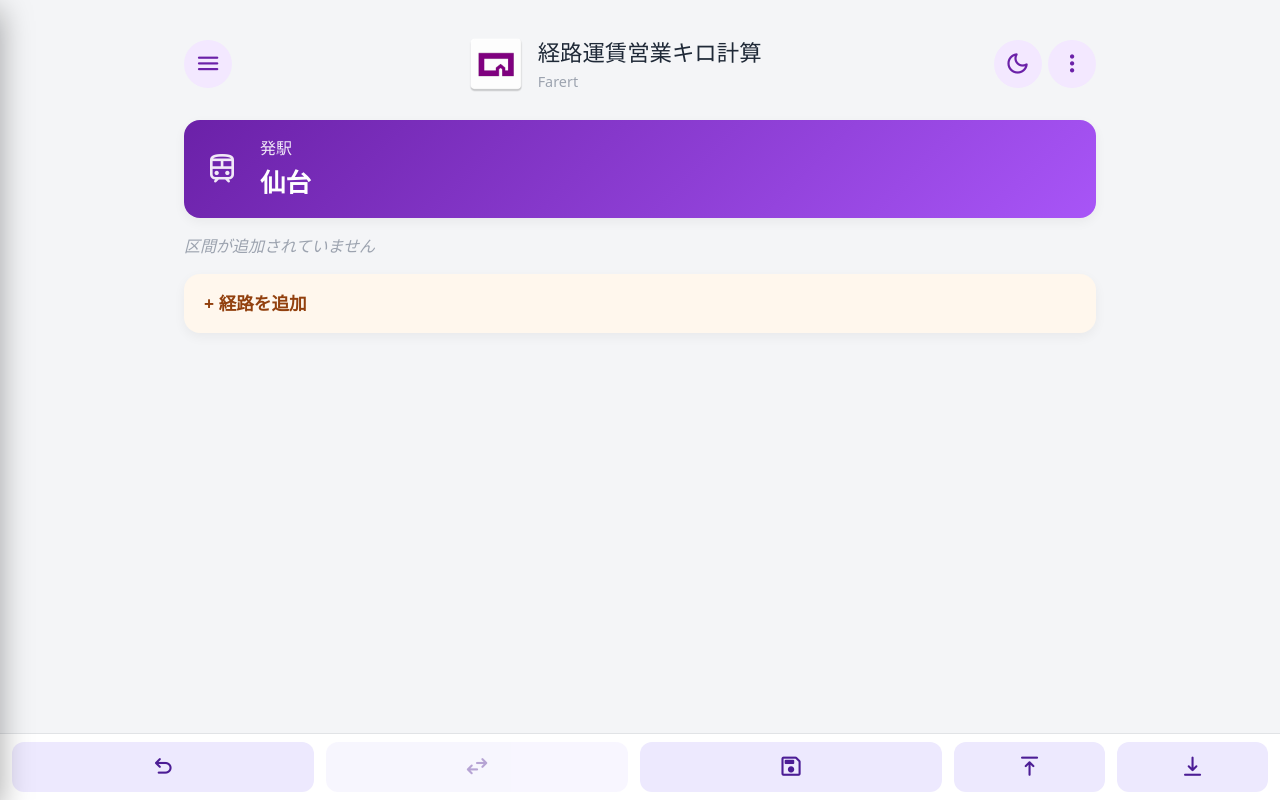
Test case: /+page.svelte › clears the start station when pressing the bottom back button without segments
Click the button named "戻る" at [163, 767], box left=12, top=742, right=314, bottom=792
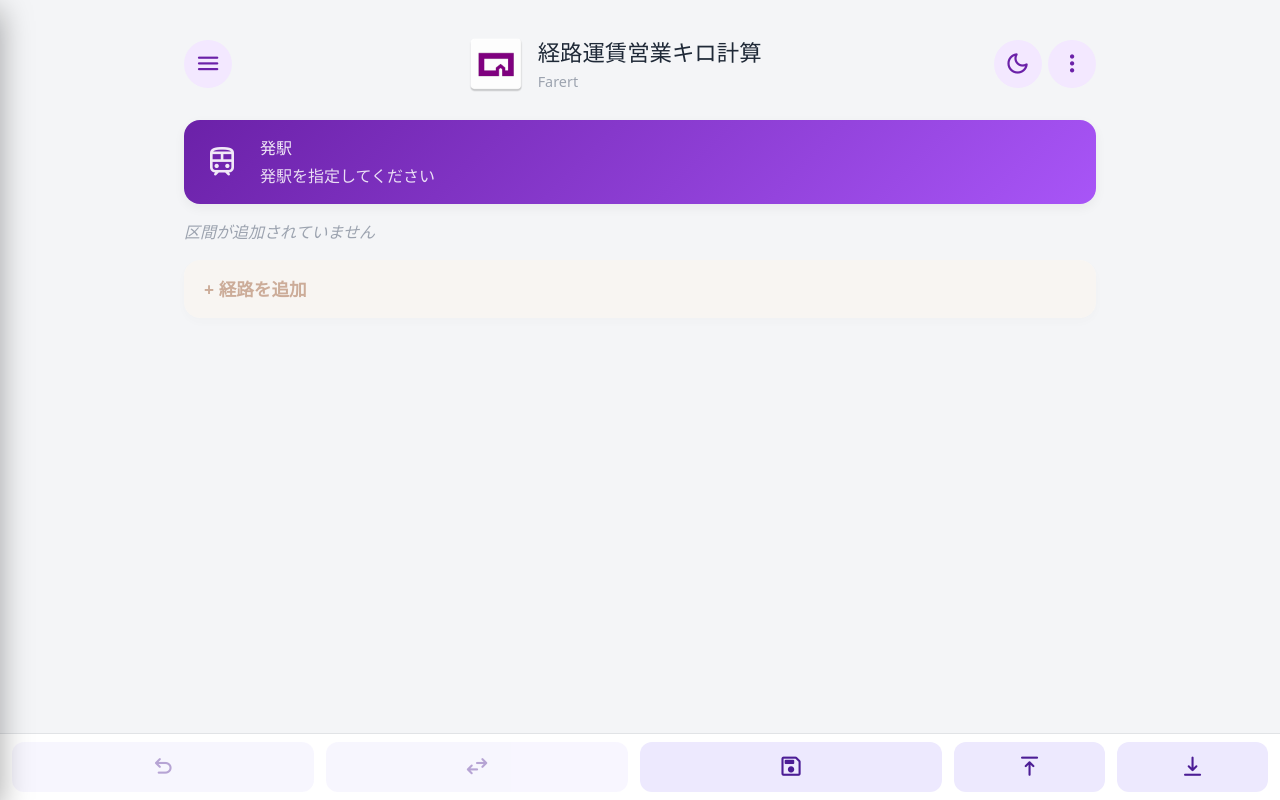
Check: the text "発駅を指定してください" is shown, box left=260, top=165, right=435, bottom=187
